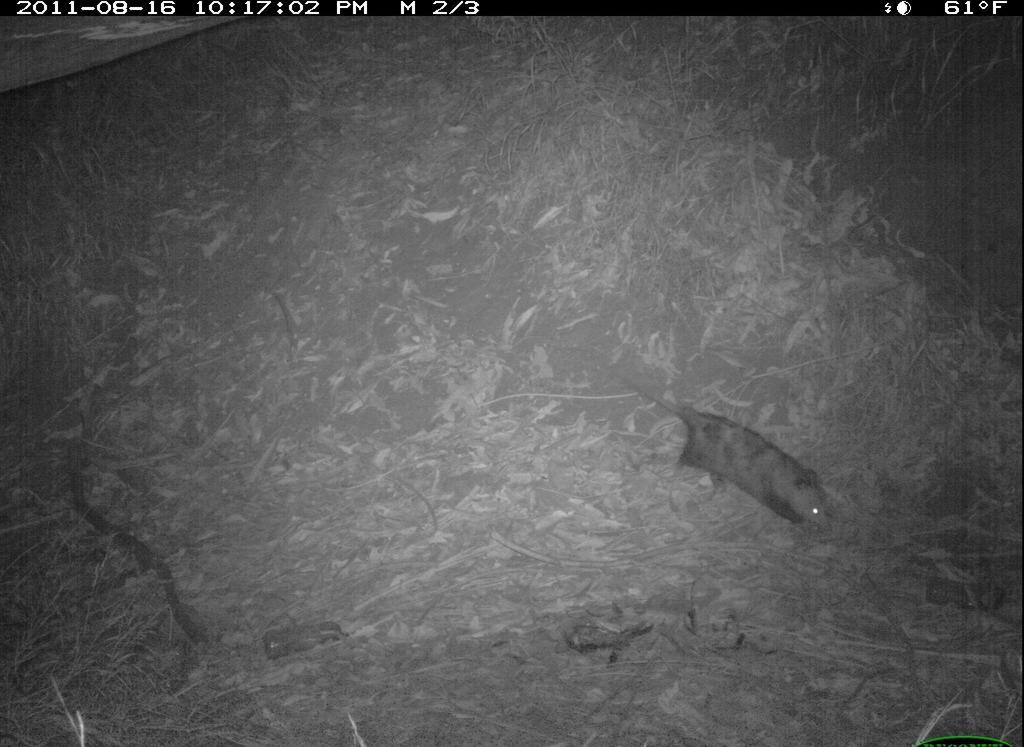opossum: (602, 356, 838, 545)
